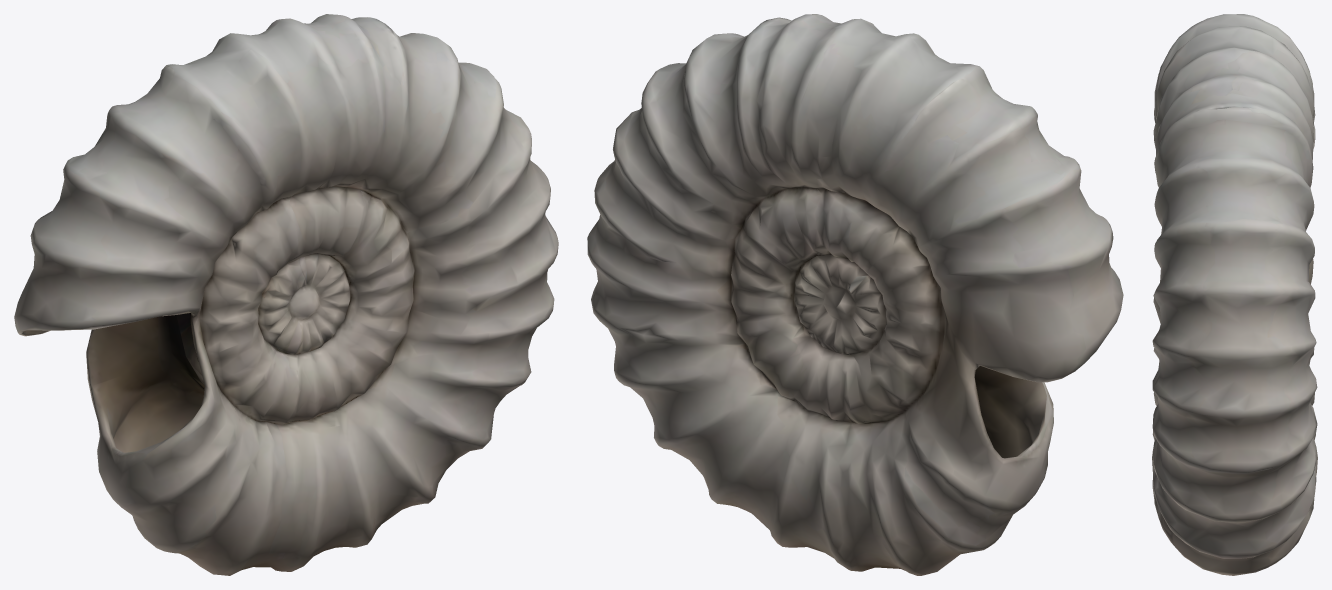
File: shell.glb
3 views of the same model, side by side, from view 1: azimuth 30°, elevation 25°; view 2: azimuth 150°, elevation 25°; view 3: azimuth 270°, elevation 25° (orthographic). The views are drawn at different scales.
Visible parts, largest first — view 1: Mesh_0; view 2: Mesh_0; view 3: Mesh_0.
Part boxes in pixels (bbox=[...]): Mesh_0: bbox=[14, 14, 558, 575]; Mesh_0: bbox=[587, 14, 1123, 575]; Mesh_0: bbox=[1152, 14, 1317, 575].
Size of the model in its own units: 1.16 by 1.15 by 0.3397.
1 material, 1 textured.
